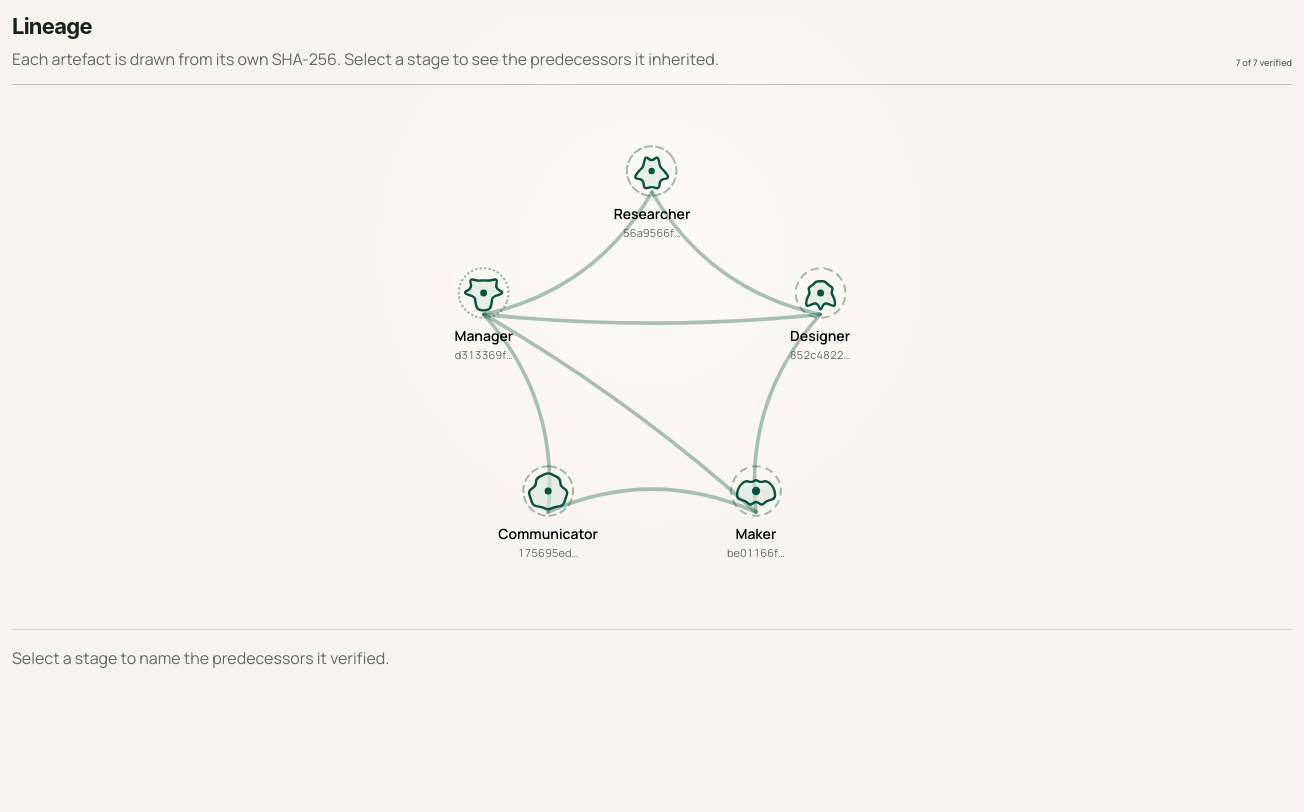
Test: LineageConstellation › names the predecessors a stage inherited, in text
Click the button "Manager d313369f…" at (484, 314), box [446,258,521,370]
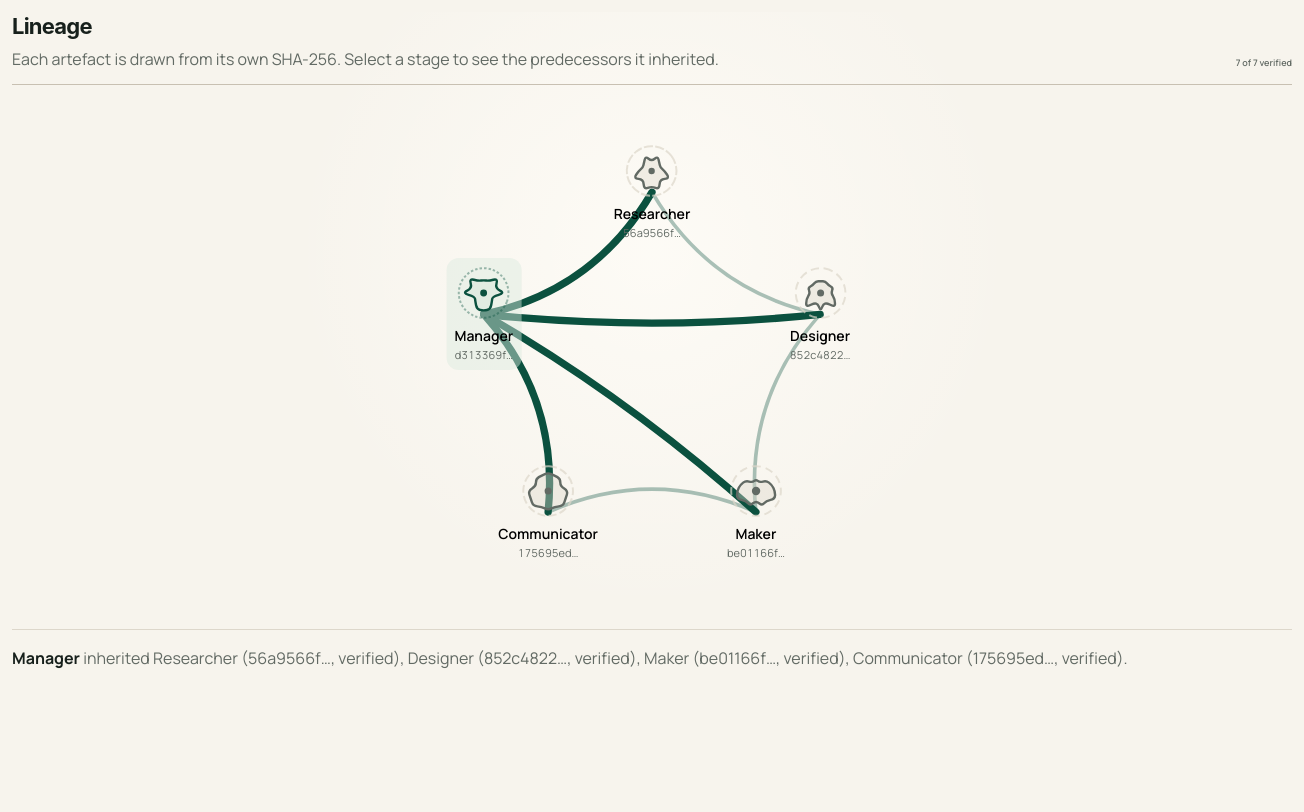
Check: the text "Researcher (56a9566f…, verified)" is shown, box [153,647,400,669]
Check: the text ", Designer (852c4822…, verified)" is shown, box [400,647,637,669]
Check: the text ", Maker (be01166f…, verified)" is shown, box [637,647,846,669]
